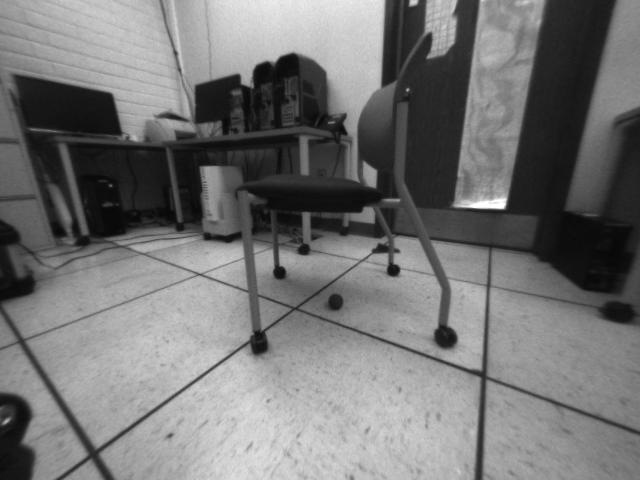dogtoy: (325, 289, 350, 311)
